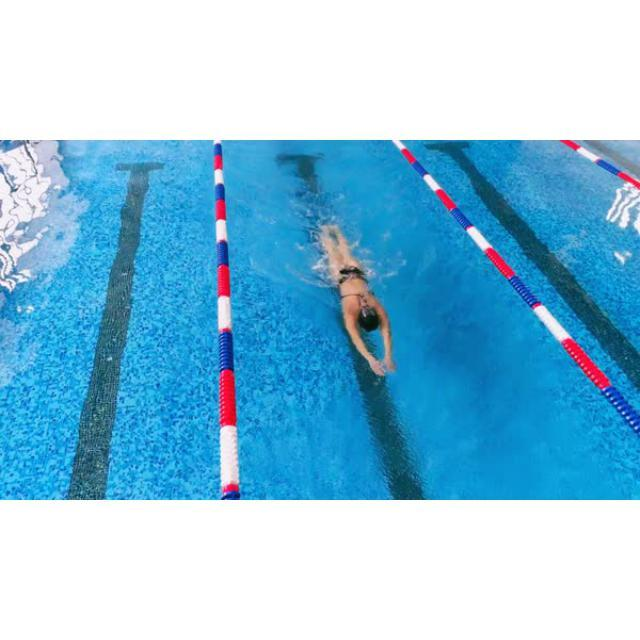human: (317, 221, 399, 379)
